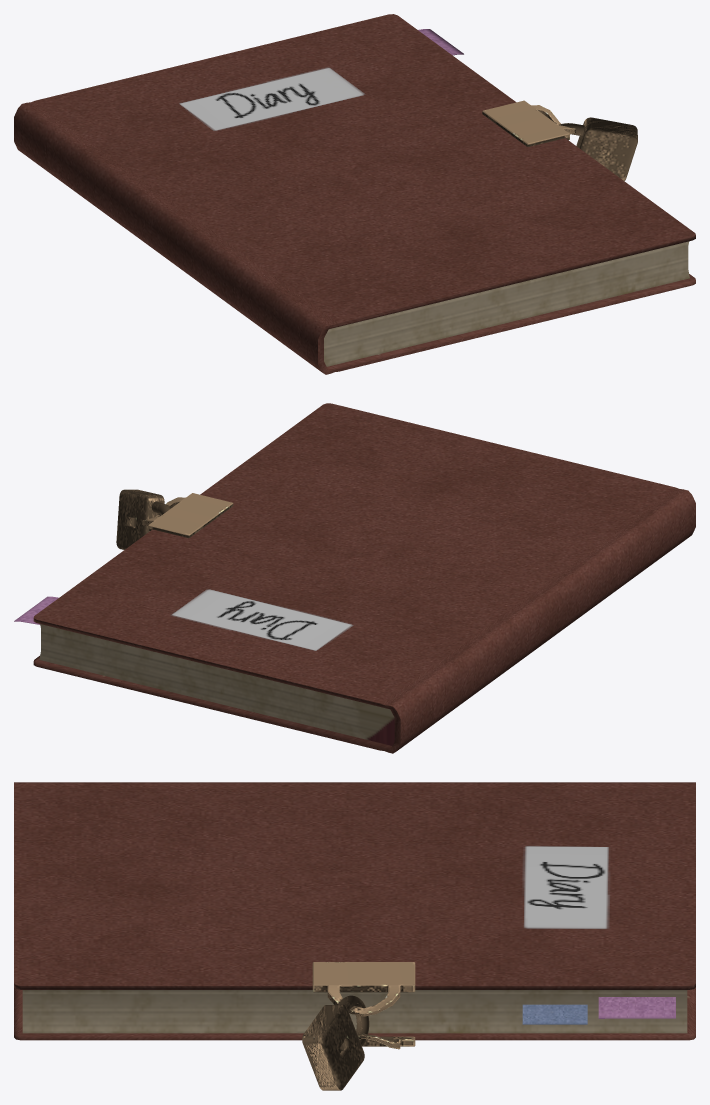
File: SM_Prop_Clue_Diary.fbx
3 renders of one model, top to bottom at view 1: azimuth 30°, elevation 25°; view 2: azimuth 150°, elevation 25°; view 3: azimuth 270°, elevation 25°, orthographic. The views are drawn at different scales.
Parts seen in each view (by area): view 1: SM_Prop_Clue_Diary; view 2: SM_Prop_Clue_Diary; view 3: SM_Prop_Clue_Diary.
Boxes of the visible parts, left/top/right/bottom form: SM_Prop_Clue_Diary: left=14, top=14, right=695, bottom=374; SM_Prop_Clue_Diary: left=14, top=403, right=695, bottom=753; SM_Prop_Clue_Diary: left=14, top=782, right=695, bottom=1090.
Size of the model in its own units: 23.76 by 3.34 by 27.43.
1 material, 1 textured.
